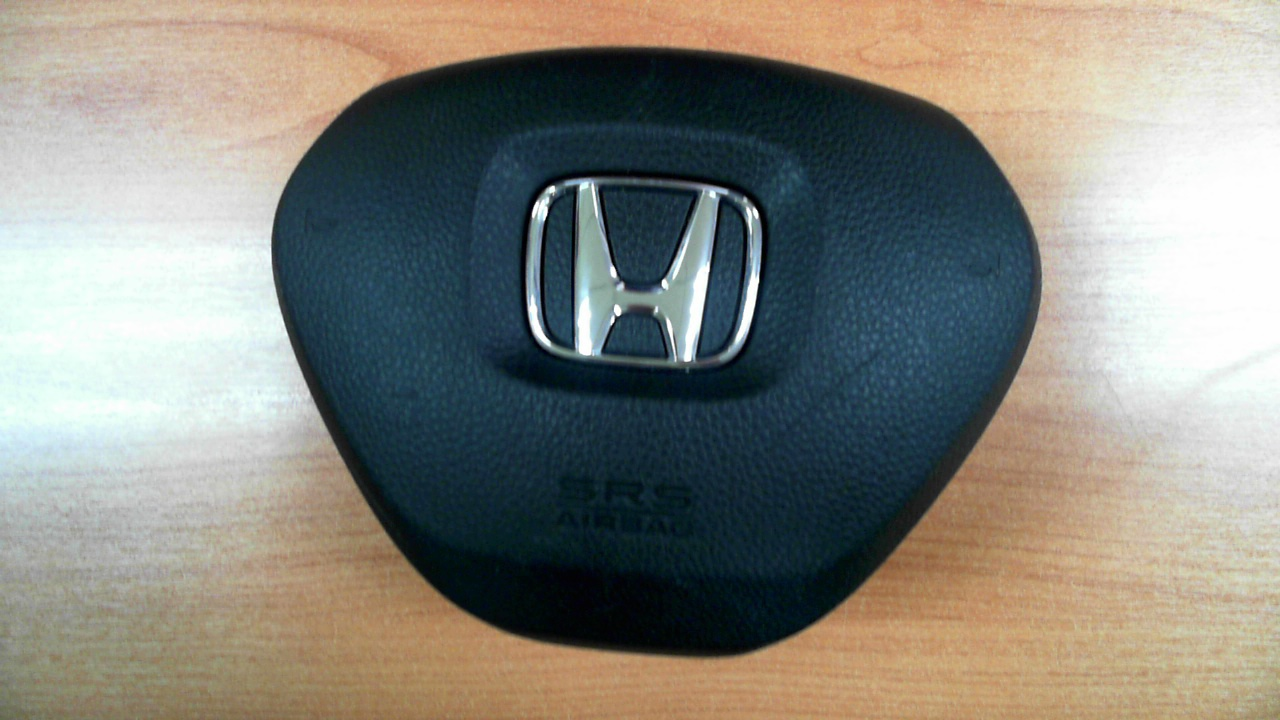Airbag: (269, 47, 1043, 659)
Honda: (524, 176, 763, 374)
